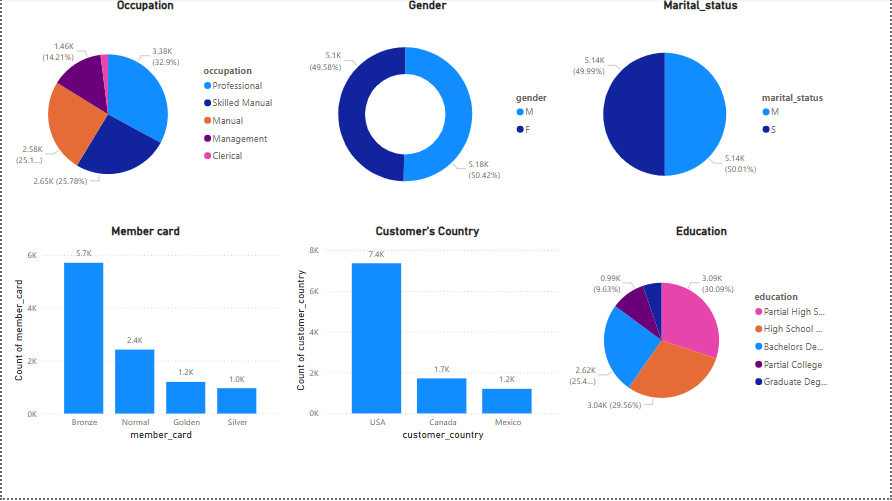

What the dashboard file says about the page in this screenshot:
{"tool":"powerbi","page":{"name":"Page 1","canvas":[1280,720],"ordinal":0},"visuals":[{"type":"pieChart","title":"Occupation","fields":{"Category":["Customers.occupation"],"Y":["CountNonNull(Customers.occupation)"]},"box":[10.1,0,393.1,315.8],"z":0},{"type":"donutChart","title":"Gender","fields":{"Category":["Customers.gender"],"Y":["CountNonNull(Customers.gender)"]},"box":[416.6,0,393.1,315.8],"z":1},{"type":"pieChart","title":"Marital_status","fields":{"Category":["Customers.marital_status"],"Y":["CountNonNull(Customers.marital_status)"]},"box":[809.7,0,393.1,315.8],"z":2},{"type":"columnChart","title":"Member card","fields":{"Category":["Customers.member_card"],"Y":["CountNonNull(Customers.member_card)"]},"box":[10,326,393,316],"z":3},{"type":"clusteredColumnChart","title":"Customer''s Country","fields":{"Category":["Customers.customer_country"],"Y":["CountNonNull(Customers.customer_country)"]},"box":[416.6,325.9,393.1,315.8],"z":4},{"type":"pieChart","title":"Education","fields":{"Category":["Customers.education"],"Y":["CountNonNull(Customers.education)"]},"box":[810,326,393,316],"z":5}]}

Visuals, with their boxes in screenshot pixels (x1, y1, x2, y2), scaled from the page's 1280x720 canvas onto the 892x501 screenshot:
"Occupation" pieChart: locate(7, 0, 281, 220)
"Gender" donutChart: locate(290, 0, 564, 220)
"Marital_status" pieChart: locate(564, 0, 838, 220)
"Member card" columnChart: locate(7, 227, 281, 447)
"Customer''s Country" clusteredColumnChart: locate(290, 227, 564, 447)
"Education" pieChart: locate(564, 227, 838, 447)
